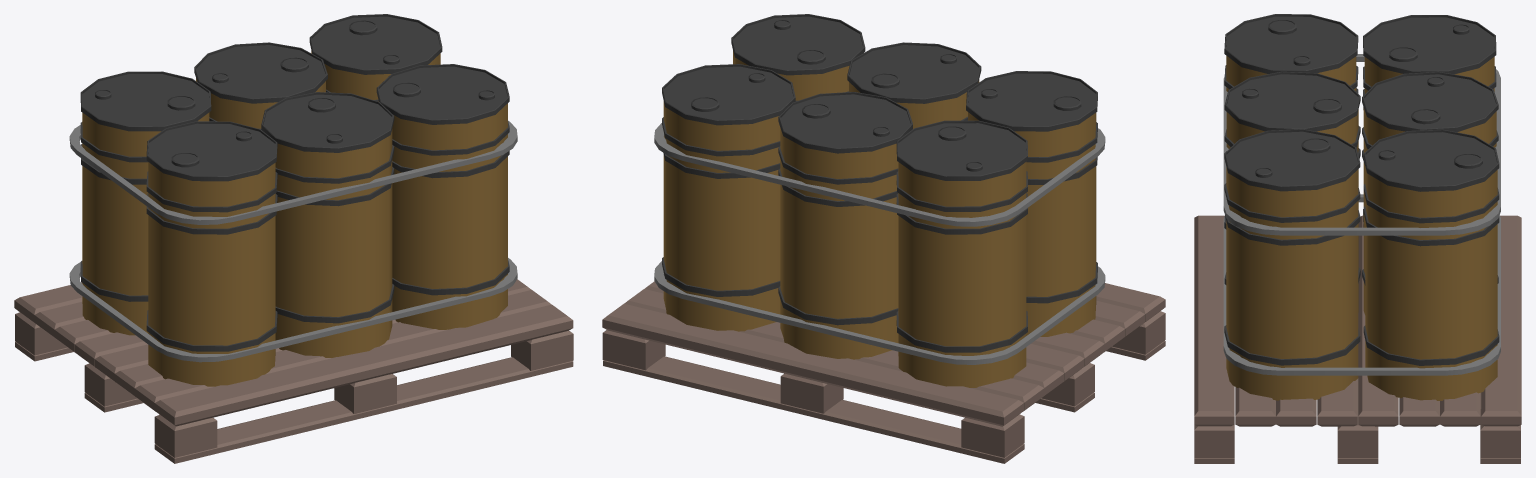
File: props_42.glb
3 renders of one model, left to right at view 1: azimuth 30°, elevation 25°; view 2: azimuth 150°, elevation 25°; view 3: azimuth 270°, elevation 25°, orthographic. The views are drawn at different scales.
Visible parts, largest first — view 1: props_42; view 2: props_42; view 3: props_42.
Boxes of the visible parts, x1,y1,x2,y2 form: props_42: [14, 14, 573, 463]; props_42: [602, 14, 1165, 463]; props_42: [1194, 14, 1521, 463].
Size of the model in its own units: 2.85 by 1.79 by 1.99.
1 material, 1 textured.
